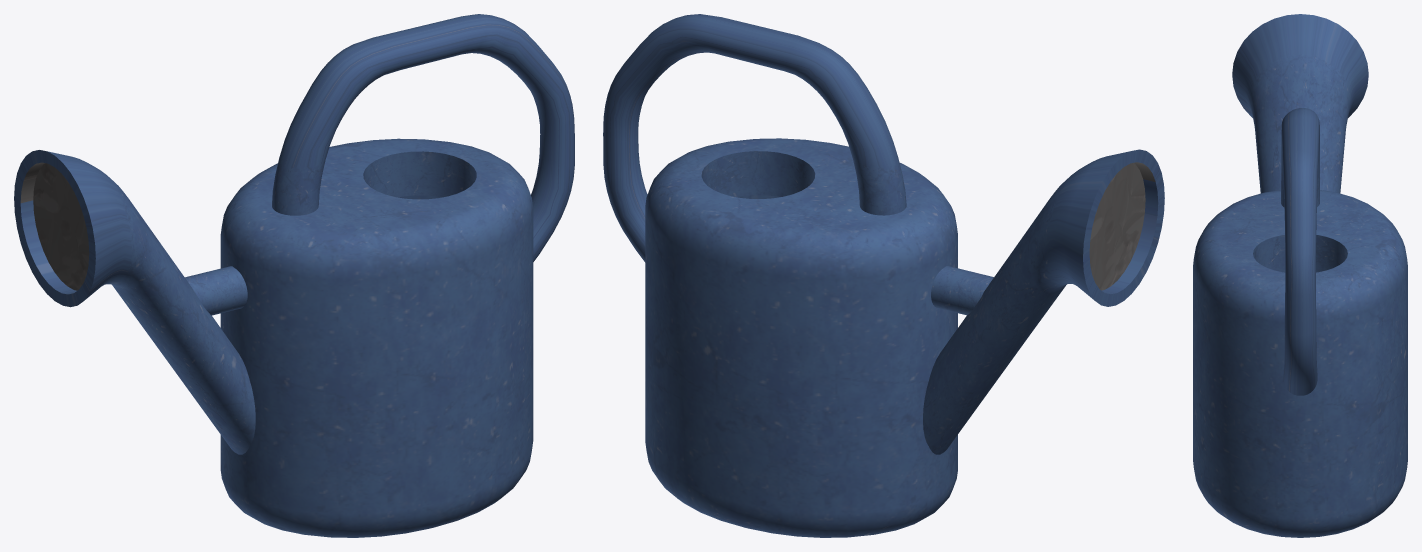
Rendered from Regadera_texturizada.fbx.
3 renders of one model, left to right at view 1: azimuth 30°, elevation 25°; view 2: azimuth 150°, elevation 25°; view 3: azimuth 270°, elevation 25°, orthographic. The views are drawn at different scales.
Parts seen in each view (by area): view 1: Cylinder.001; view 2: Cylinder.001; view 3: Cylinder.001.
Boxes of the visible parts, bbox=[...] form: Cylinder.001: bbox=[14, 14, 574, 537]; Cylinder.001: bbox=[603, 14, 1164, 537]; Cylinder.001: bbox=[1193, 14, 1407, 537].
Size of the model in its own units: 573 by 477 by 247.
Materials: 1 (1 with a texture image).
